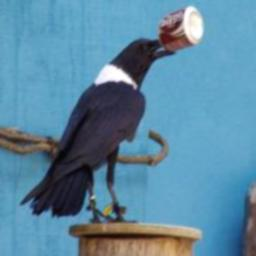Crow: (20, 35, 179, 226)
